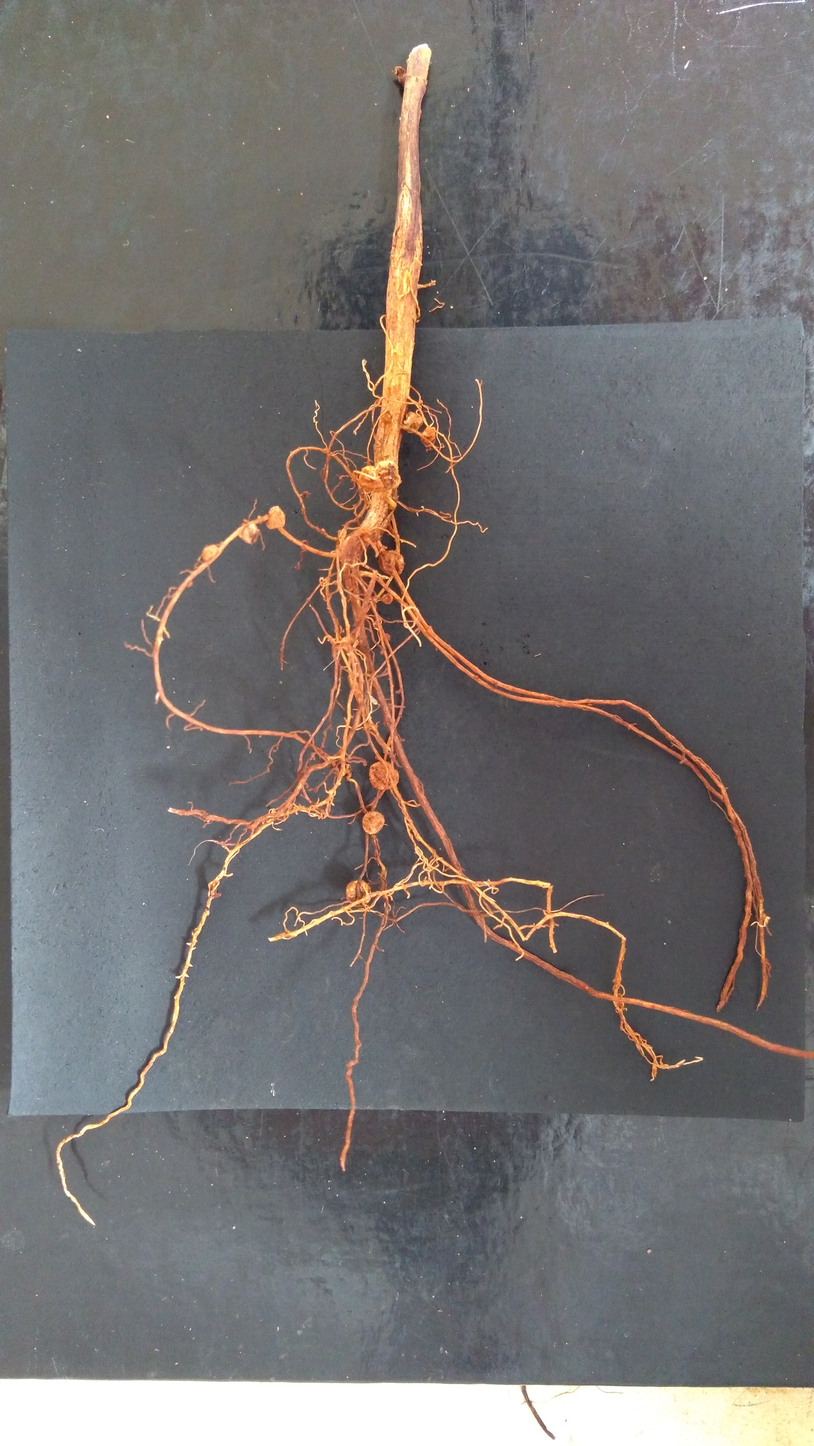nodule: (359, 460, 400, 493), (369, 760, 399, 790), (378, 550, 404, 576), (346, 880, 371, 907), (238, 519, 260, 544), (362, 810, 384, 834), (403, 411, 424, 434), (266, 506, 285, 529), (420, 426, 435, 447), (202, 544, 219, 562), (382, 706, 393, 727), (381, 411, 394, 425), (338, 528, 347, 544), (380, 593, 393, 604), (341, 637, 355, 645), (372, 620, 381, 631), (300, 540, 308, 551), (300, 491, 309, 499), (382, 633, 390, 642), (185, 581, 193, 588), (351, 672, 359, 679), (257, 515, 263, 524), (380, 650, 385, 655), (321, 528, 326, 533)
